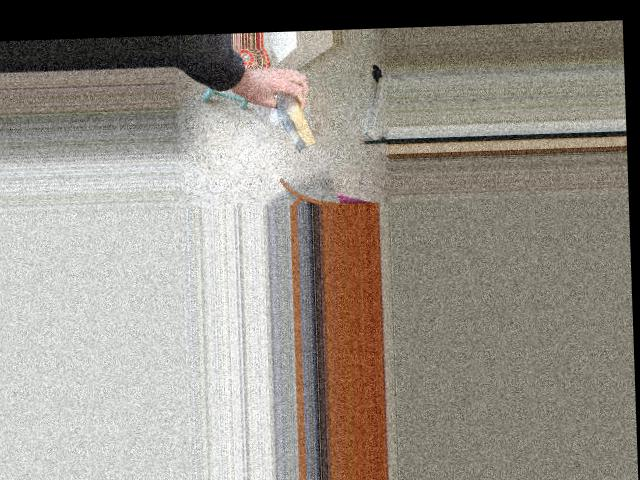cheese: (268, 78, 321, 157)
